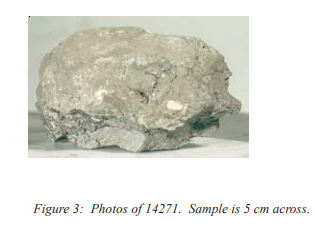Breccia: (30, 20, 247, 154), (57, 48, 224, 142), (130, 32, 236, 140)
